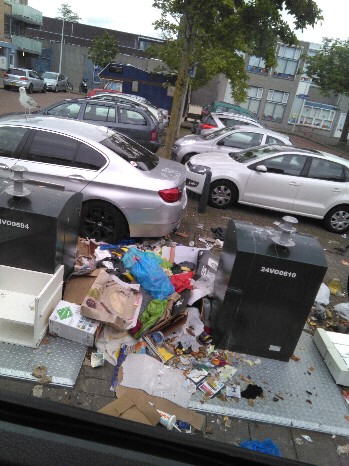Container: (220, 214, 309, 354), (1, 173, 70, 272)
Papier: (101, 369, 201, 427), (70, 266, 120, 339), (153, 295, 194, 372), (120, 283, 155, 359)
Rest: (0, 267, 55, 347), (157, 233, 212, 294), (99, 240, 160, 289)
Voertuig: (6, 114, 175, 219), (201, 144, 349, 222), (64, 92, 168, 157), (197, 113, 292, 157), (14, 66, 71, 97)
